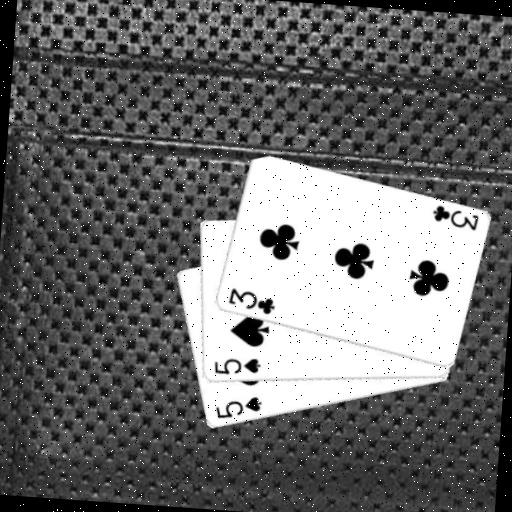3C: (225, 285, 278, 317), (428, 201, 481, 232)
5S: (212, 392, 264, 424), (210, 353, 262, 379)
